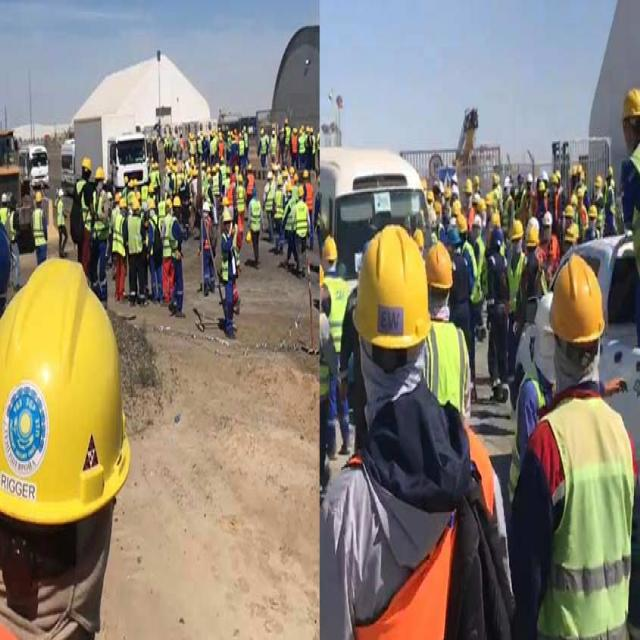Reflective-Jacket: (530, 394, 636, 636), (92, 186, 109, 240), (74, 179, 90, 233), (162, 214, 180, 262), (220, 234, 237, 284), (127, 215, 145, 255), (112, 216, 128, 259), (246, 197, 265, 231), (295, 199, 309, 234), (32, 208, 45, 240), (56, 201, 66, 227)
Safety-Helmet: (1, 257, 133, 519), (354, 220, 433, 352), (548, 250, 606, 346), (426, 237, 453, 287), (618, 80, 640, 124), (525, 215, 541, 249), (322, 231, 338, 262), (511, 216, 524, 242), (81, 152, 92, 172), (95, 163, 106, 182), (220, 206, 233, 222), (172, 193, 182, 210), (34, 189, 45, 204)
